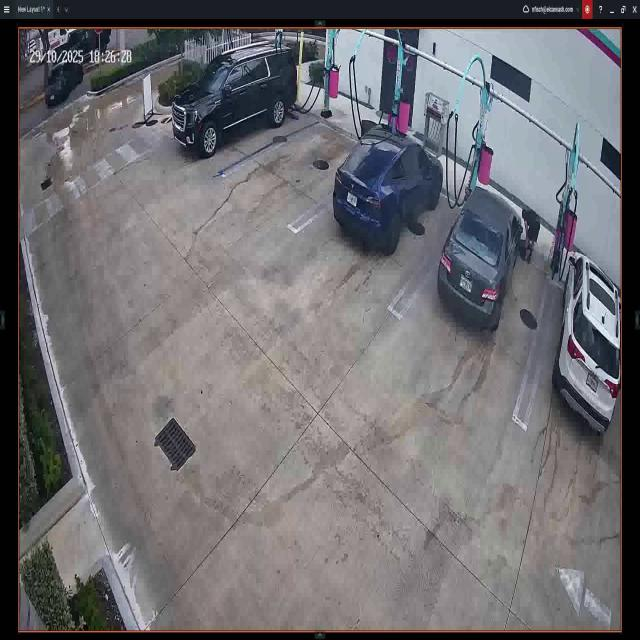Car: (169, 41, 297, 150), (334, 124, 442, 250), (440, 186, 522, 330), (554, 253, 620, 425), (43, 60, 86, 104)
